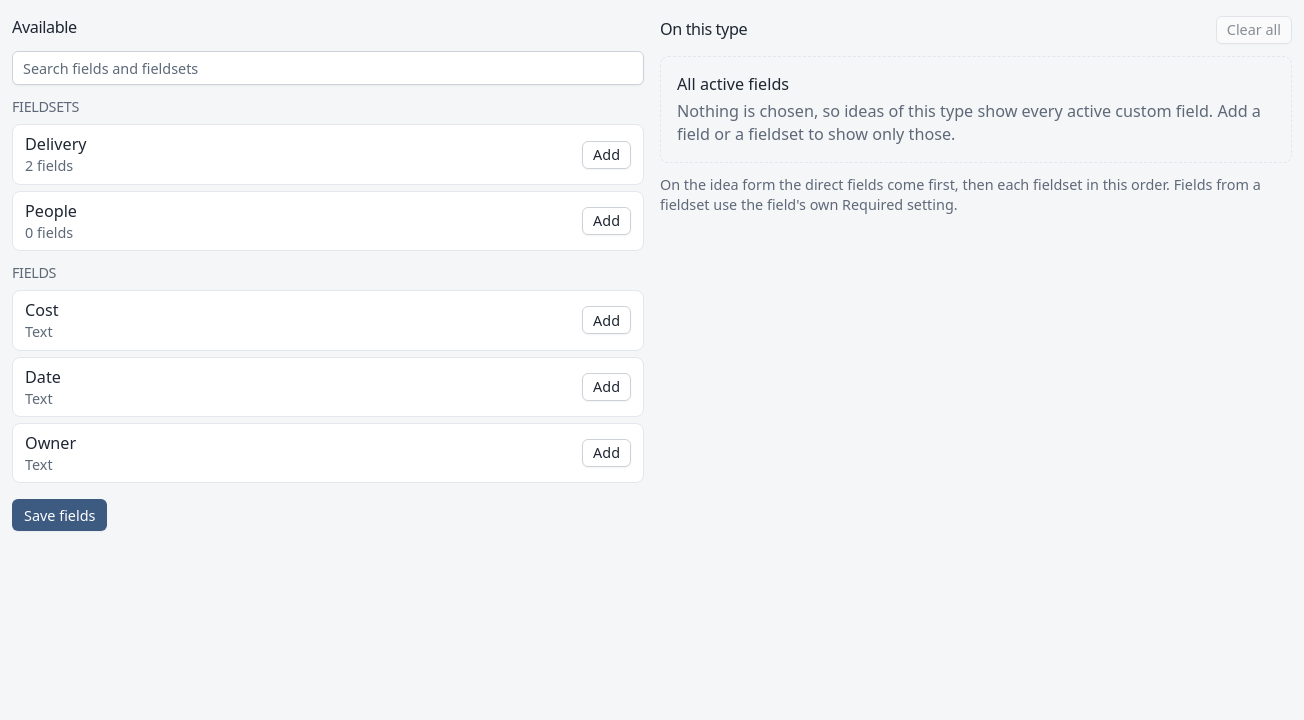
Test: the idea type field picker › removes a field or fieldset, and Clear all returns to the empty state
Click the button with aria-label "Add field Cost": (607, 320) [582,306,631,334]
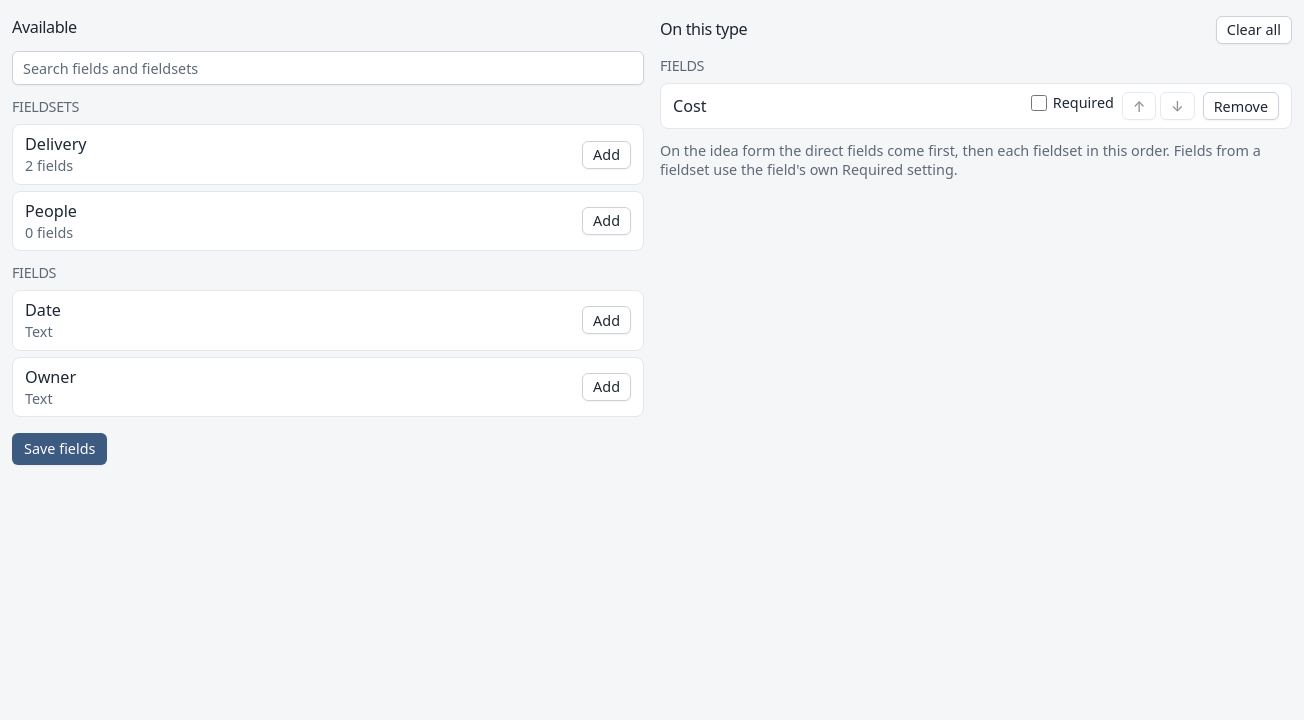
Click the button with aria-label "Add fieldset People": (607, 221) [582,207,631,235]
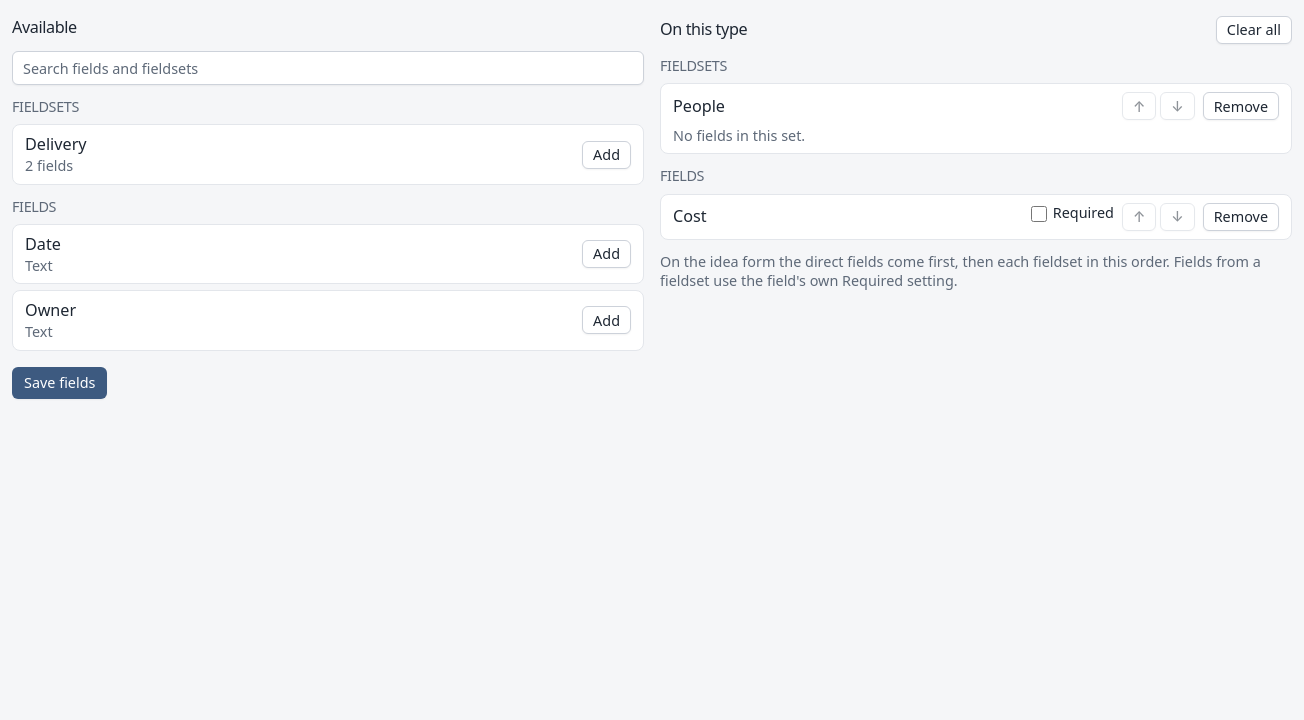
Click the button with aria-label "Remove field Cost": (1241, 217) [1203,203,1279,231]
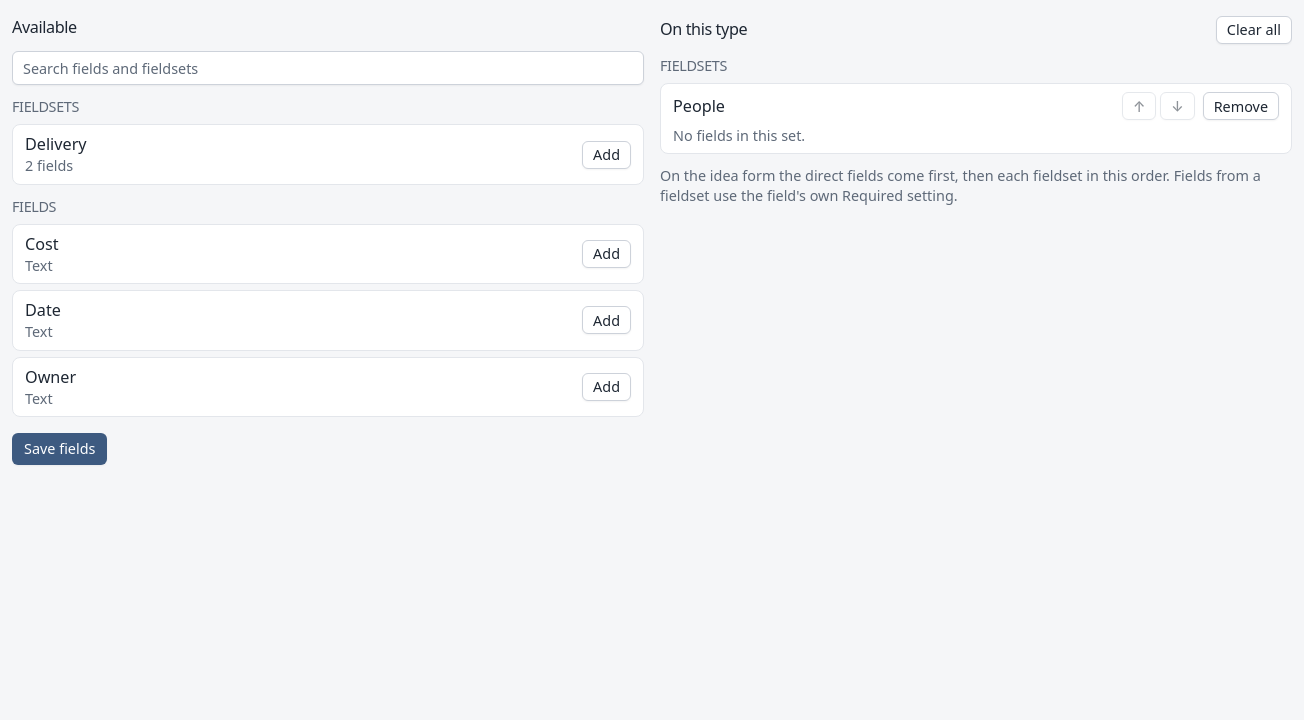
Click the button "Clear all": (1254, 30) [1216,16,1292,44]
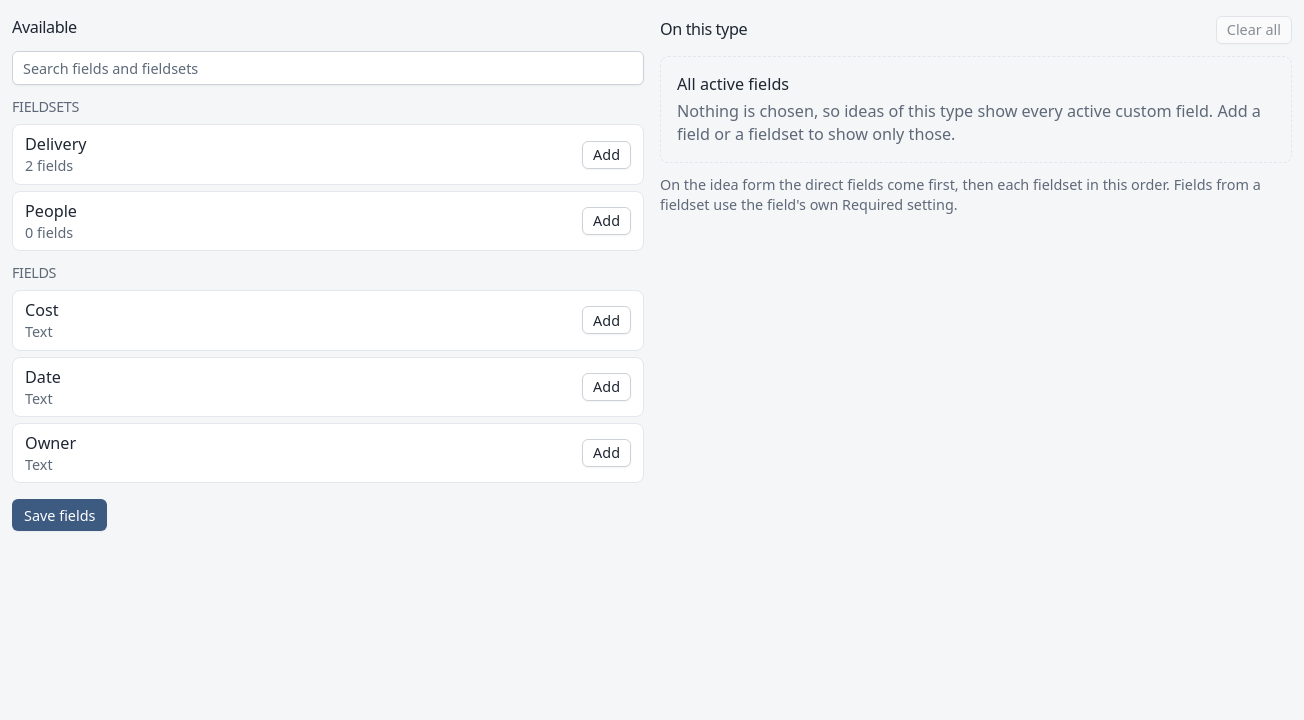
Result: the text "All active fields" is shown at [677,73,789,95]
